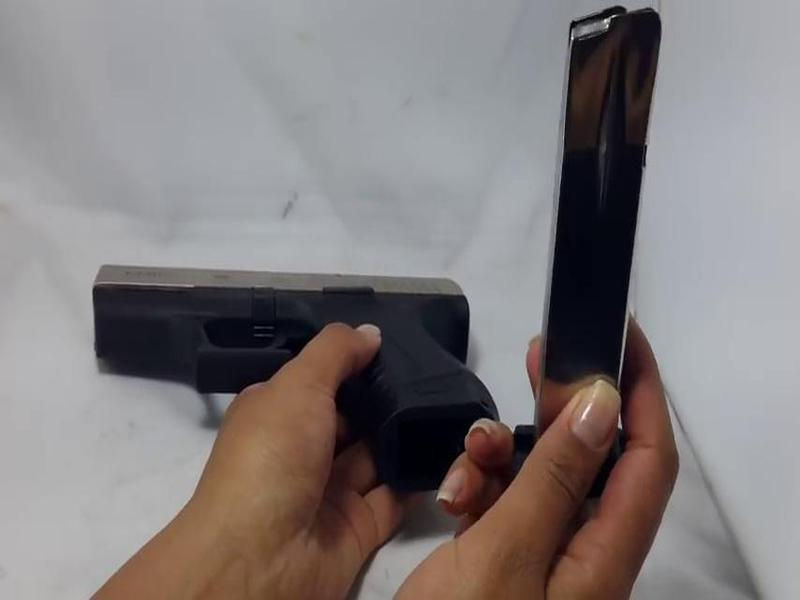Pistola: (60, 202, 509, 487)
